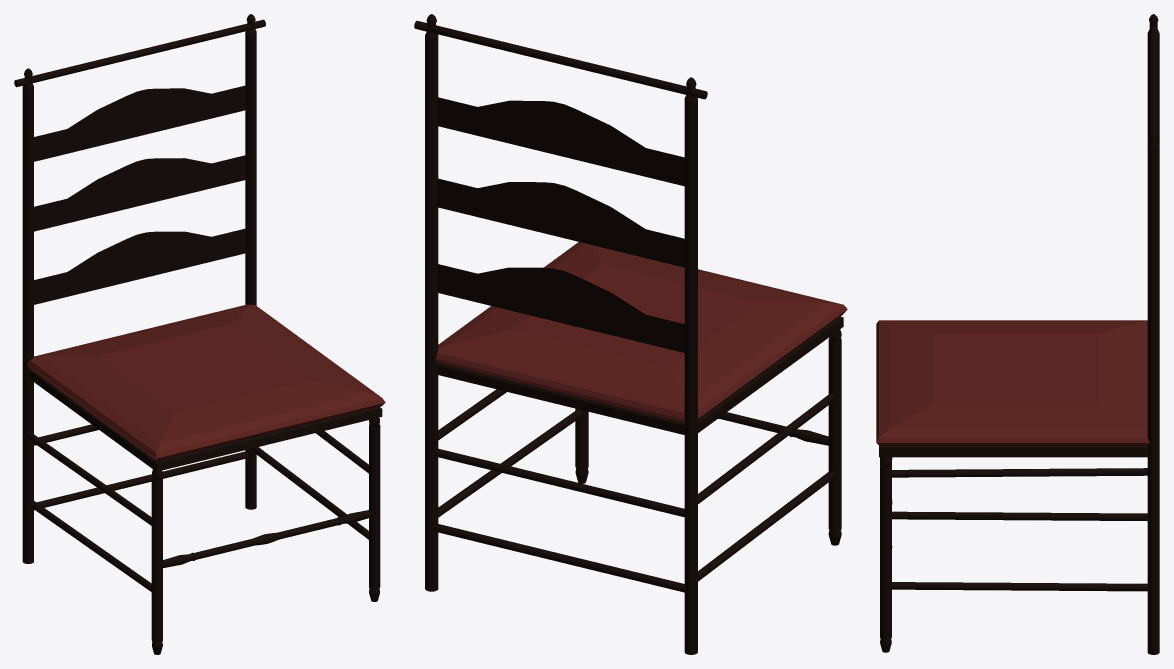
The model's file is ladderback chair.fbx.
3 renders of one model, left to right at view 1: azimuth 30°, elevation 25°; view 2: azimuth 150°, elevation 25°; view 3: azimuth 270°, elevation 25°, orthographic. The views are drawn at different scales.
Visible parts, largest first — view 1: Cube; view 2: Cube; view 3: Cube.
Boxes of the visible parts, left/top/right/bottom form: Cube: left=14, top=14, right=385, bottom=654; Cube: left=414, top=14, right=847, bottom=654; Cube: left=876, top=14, right=1159, bottom=654.
Size of the model in its own units: 326 by 304 by 620.
